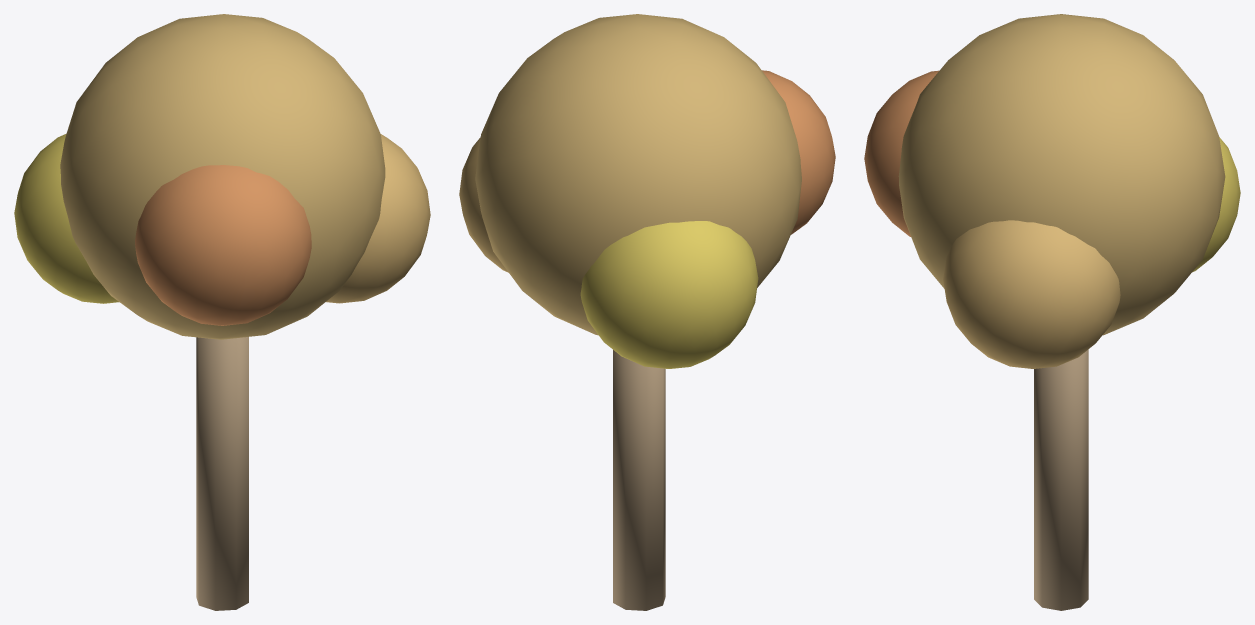
The model's file is plant_tree_apple_autumn.glb.
3 renders of one model, left to right at view 1: azimuth 30°, elevation 25°; view 2: azimuth 150°, elevation 25°; view 3: azimuth 270°, elevation 25°, orthographic.
Parts seen in each view (by area): view 1: crown_main, crown_sub1, trunk, crown_sub2, crown_sub0; view 2: crown_main, crown_sub2, trunk, crown_sub1, crown_sub0; view 3: crown_main, crown_sub0, trunk, crown_sub1, crown_sub2.
Part boxes in pixels (x1=…): crown_main: x1=60, y1=14, x2=385, y2=339; crown_sub1: x1=135, y1=165, x2=311, y2=325; trunk: x1=196, y1=337, x2=248, y2=610; crown_sub2: x1=14, y1=134, x2=119, y2=303; crown_sub0: x1=326, y1=134, x2=430, y2=303; crown_main: x1=475, y1=14, x2=801, y2=335; crown_sub2: x1=580, y1=221, x2=758, y2=368; trunk: x1=613, y1=350, x2=665, y2=610; crown_sub1: x1=762, y1=70, x2=835, y2=234; crown_sub0: x1=459, y1=137, x2=508, y2=272; crown_main: x1=898, y1=14, x2=1225, y2=335; crown_sub0: x1=943, y1=220, x2=1120, y2=368; trunk: x1=1034, y1=349, x2=1088, y2=610; crown_sub1: x1=864, y1=70, x2=938, y2=236; crown_sub2: x1=1192, y1=137, x2=1240, y2=272.
Size of the model in its own units: 0.9858 by 1.61 by 0.964.
